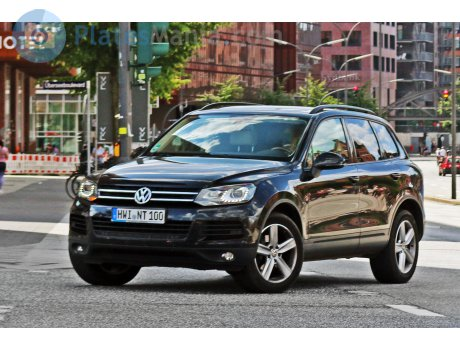License Plates: (113, 206, 167, 226)
